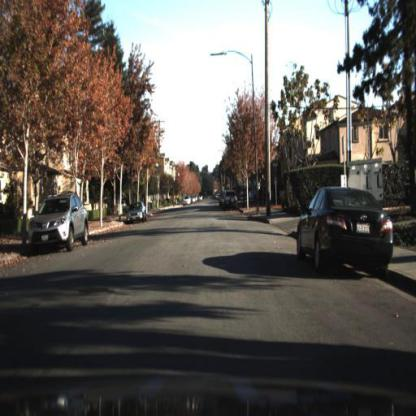car: (294, 184, 394, 270), (27, 189, 89, 255), (125, 201, 146, 227), (221, 187, 238, 212), (179, 194, 191, 208)
